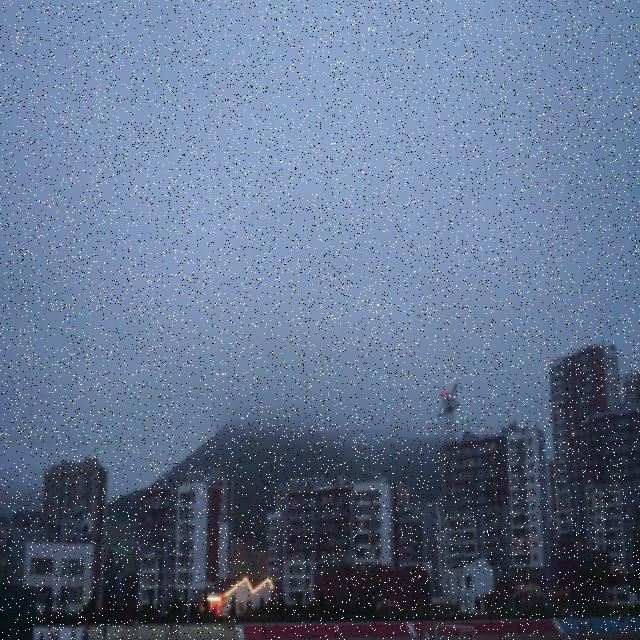UAV: (441, 391, 448, 398)
